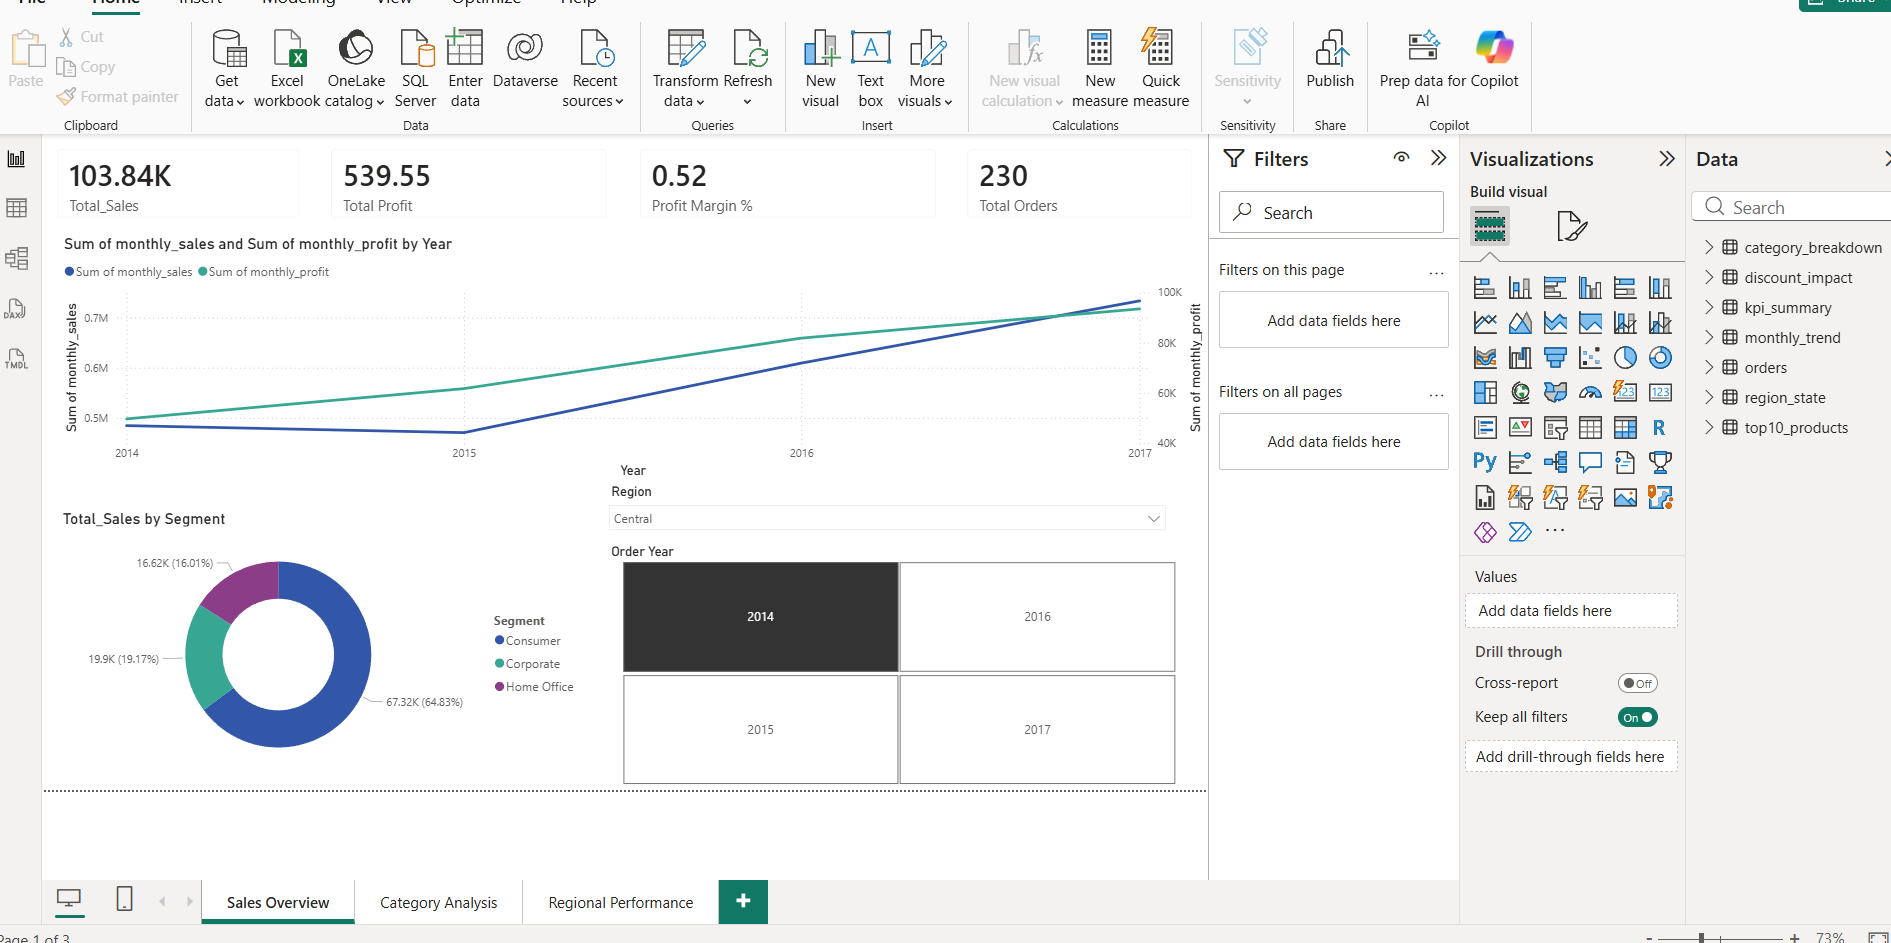

This screenshot's page, from the dashboard's own definition file:
{"tool":"powerbi","page":{"name":"Sales Overview","canvas":[1280,720],"ordinal":0},"visuals":[{"type":"cardVisual","fields":{"Data":["orders.Total Profit"]},"box":[300.5,0,336.2,109.8],"z":0},{"type":"cardVisual","fields":{"Data":["orders.Total_Sales"]},"box":[0,0,300.5,109.8],"z":1000},{"type":"cardVisual","fields":{"Data":["orders.Profit Margin %"]},"box":[639.5,0,359.5,109.8],"z":2000},{"type":"cardVisual","fields":{"Data":["orders.Total Orders"]},"box":[999,0,281.3,109.8],"z":3000},{"type":"lineChart","fields":{"Category":["monthly_trend.year_month.Variation.Date Hierarchy.Year","monthly_trend.year_month.Variation.Date Hierarchy.Quarter","monthly_trend.year_month.Variation.Date Hierarchy.Month","monthly_trend.year_month.Variation.Date Hierarchy.Day"],"Y":["Sum(monthly_trend.monthly_sales)"],"Y2":["Sum(monthly_trend.monthly_profit)"]},"box":[19.2,109.8,1259.7,273.1],"z":4000},{"type":"donutChart","fields":{"Category":["orders.Segment"],"Y":["orders.Total_Sales"]},"box":[17.8,411.7,580.4,299.1],"z":5000},{"type":"slicer","fields":{"Values":["orders.Order Year"]},"box":[612,444.6,655.9,275.8],"z":6000},{"type":"slicer","fields":{"Values":["orders.Region"]},"box":[612,378.7,631.2,64.5],"z":7000}]}

Visuals, with their boxes on the page's 1280x720 design canvas (x1, y1, x2, y2). These are canvas units, not pixel positions in the 1891x943 screenshot, which may show the page scaled, cropped or inside an application window:
cardVisual - orders.Total Profit: box(300, 0, 637, 110)
cardVisual - orders.Total_Sales: box(0, 0, 300, 110)
cardVisual - orders.Profit Margin %: box(640, 0, 999, 110)
cardVisual - orders.Total Orders: box(999, 0, 1280, 110)
lineChart - monthly_trend.year_month.Variation.Date Hierarchy.Year x monthly_trend.year_month.Variation.Date Hierarchy.Quarter: box(19, 110, 1279, 383)
donutChart - orders.Segment x orders.Total_Sales: box(18, 412, 598, 711)
slicer - orders.Order Year: box(612, 445, 1268, 720)
slicer - orders.Region: box(612, 379, 1243, 443)
